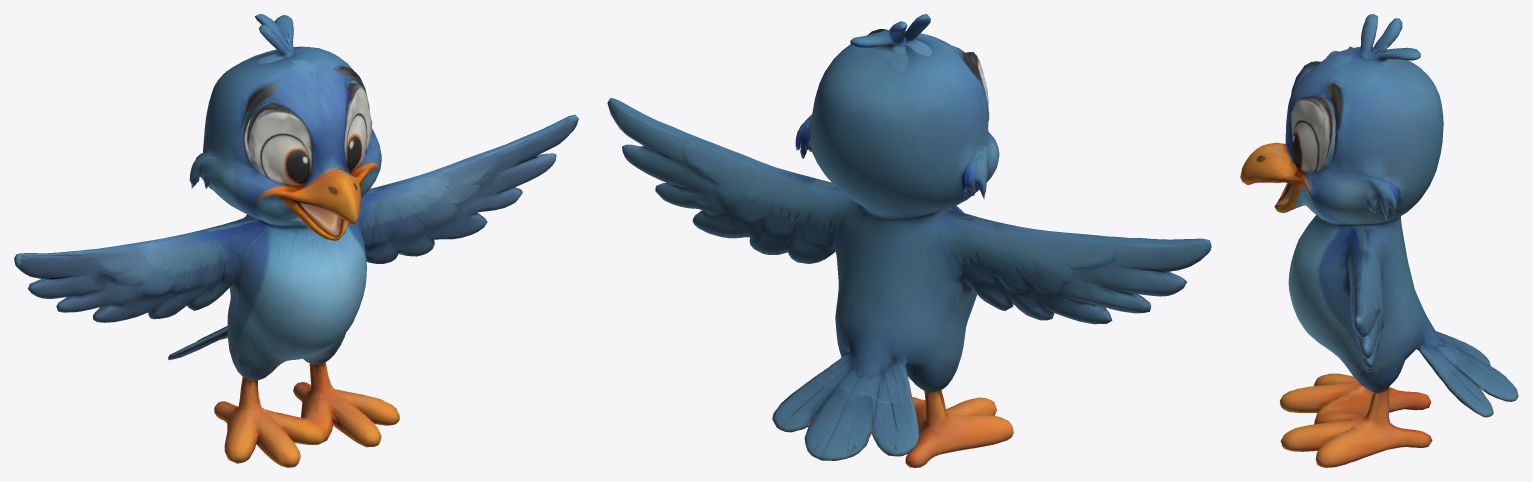
Rendered from bluebird.glb.
3 views of the same model, side by side, from view 1: azimuth 30°, elevation 25°; view 2: azimuth 150°, elevation 25°; view 3: azimuth 270°, elevation 25° (orthographic). The views are drawn at different scales.
Visible parts, largest first — view 1: Object_4; view 2: Object_4; view 3: Object_4.
Part boxes in pixels (bbox=[...]): Object_4: bbox=[14, 14, 578, 467]; Object_4: bbox=[607, 14, 1211, 467]; Object_4: bbox=[1240, 14, 1518, 467].
Bounding box in the file's own units: 1.99 × 1.37 × 0.8548.
Materials: 1 (1 with a texture image).
